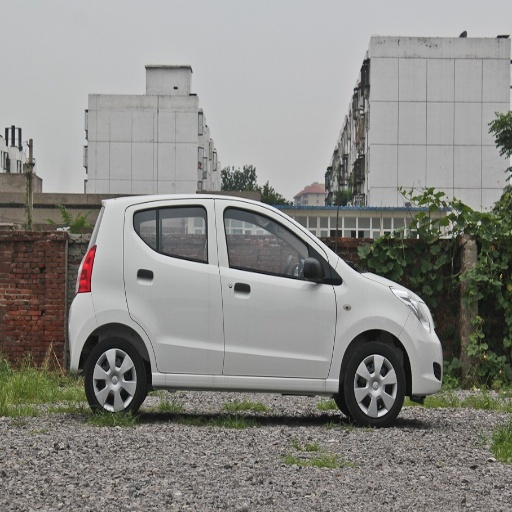back_right_door: (129, 200, 222, 373)
front_right_door: (217, 204, 336, 377)
